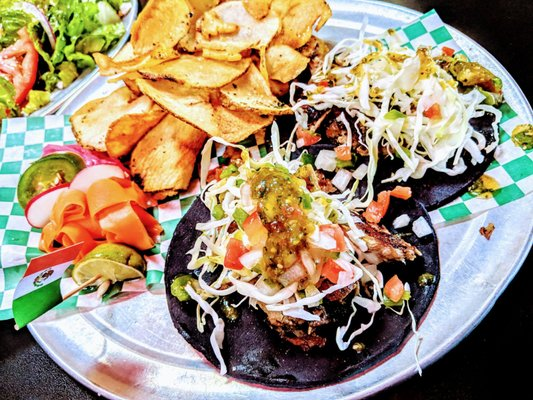soup: (97, 0, 335, 147)
